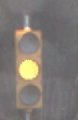Yellow: (12, 20, 53, 117)
